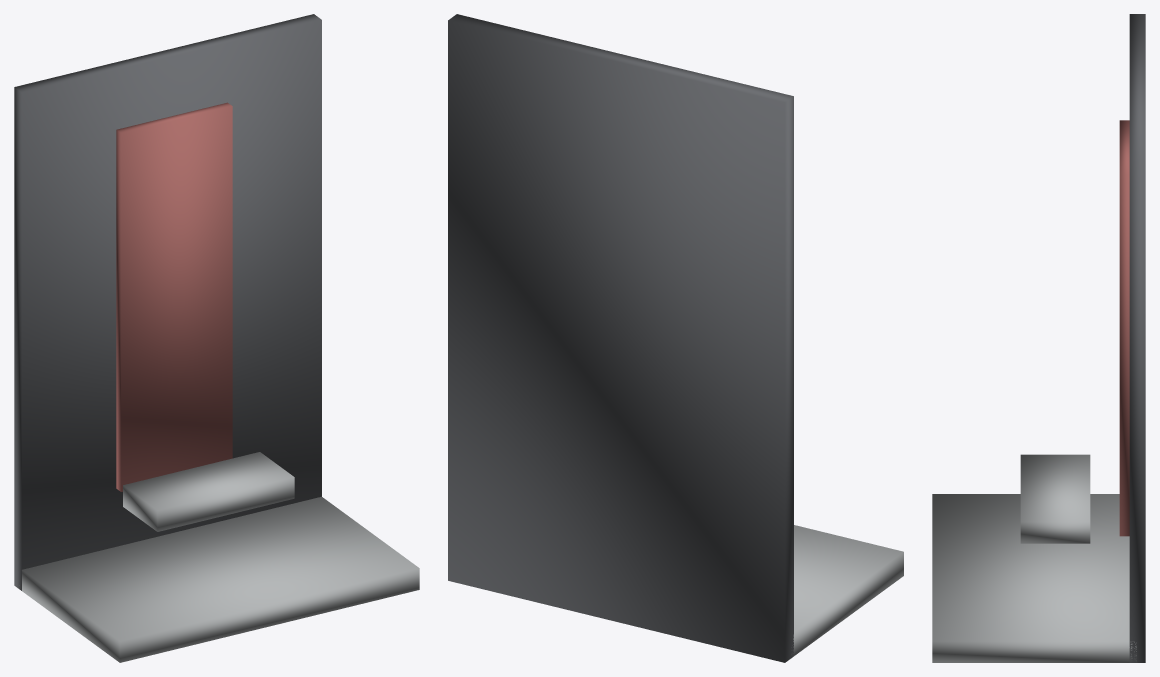
Rendered from roof_access_hatch_stair_20.glb.
The picture shows the model from 3 angles, left to right: view 1: azimuth 30°, elevation 25°; view 2: azimuth 150°, elevation 25°; view 3: azimuth 270°, elevation 25°; orthographic projection. The views are drawn at different scales.
Visible parts, largest first — view 1: world; view 2: world; view 3: world.
Part boxes in pixels (x1,y1,x2,y2): world: (14,14,419,662); world: (448,14,903,662); world: (932,14,1145,662).
Bounding box in the file's own units: 1.75 × 2.78 × 1.07.
